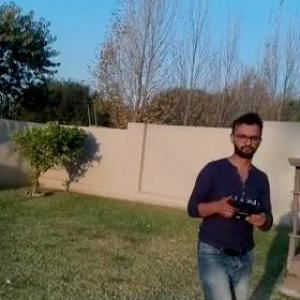follow: (181, 106, 278, 299)
